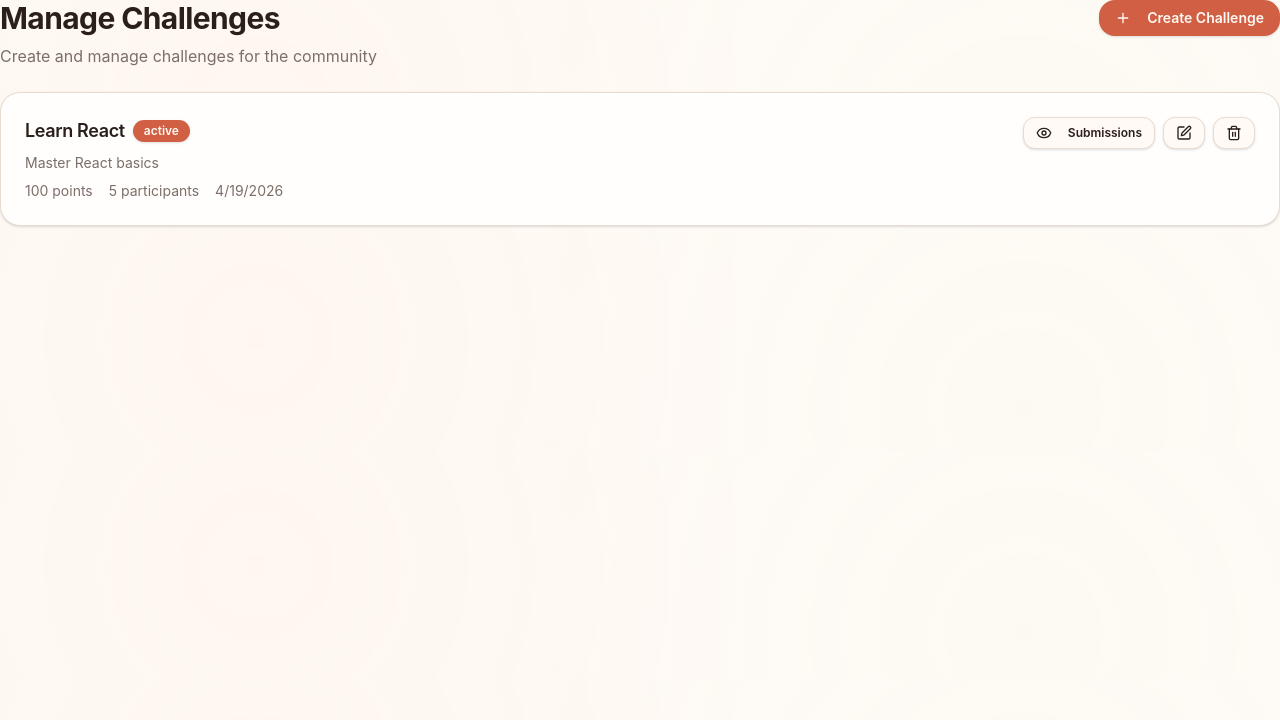
AdminChallengesPage › Delete Challenge › should close delete dialog on cancel
The width and height of the screenshot is (1280, 720).
Check: the heading "Learn React" is shown, box x1=25 y1=117 x2=125 y2=145
Find delete button
Click the 4th button: (1234, 133) x1=1213 y1=117 x2=1255 y2=149
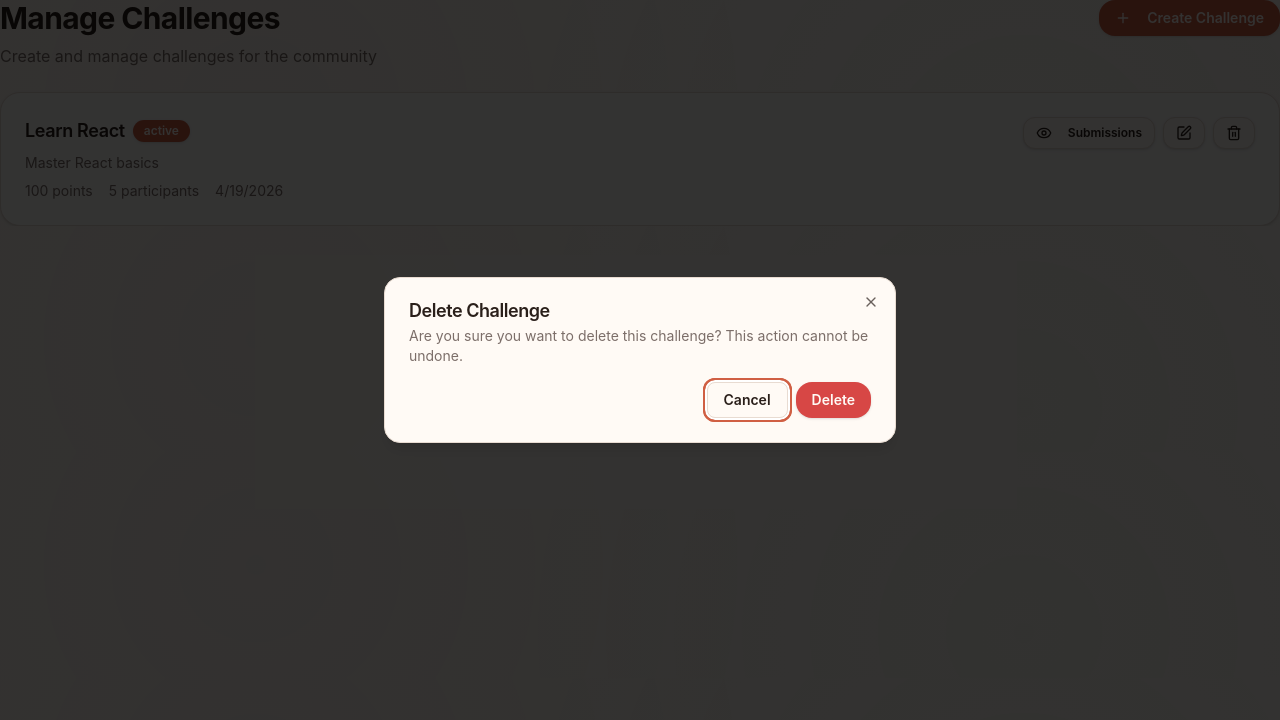
Check: the heading "Delete Challenge" is shown, box x1=409 y1=300 x2=550 y2=321
Click the button "Cancel": (747, 400) x1=706 y1=382 x2=788 y2=418
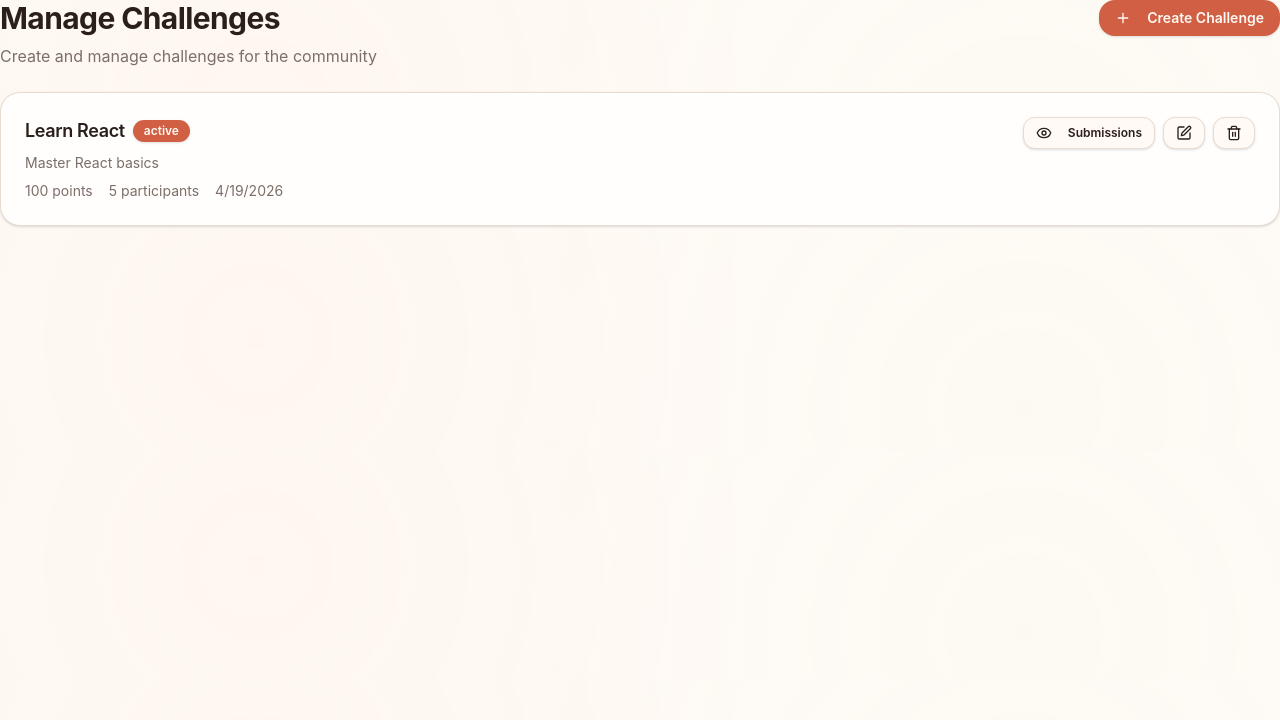
Check: the text "Are you sure" is gone
